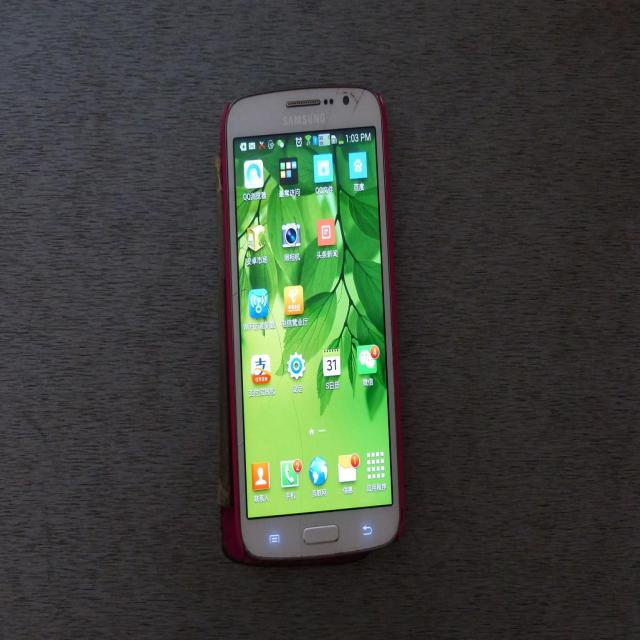Phone: (217, 81, 403, 576)
